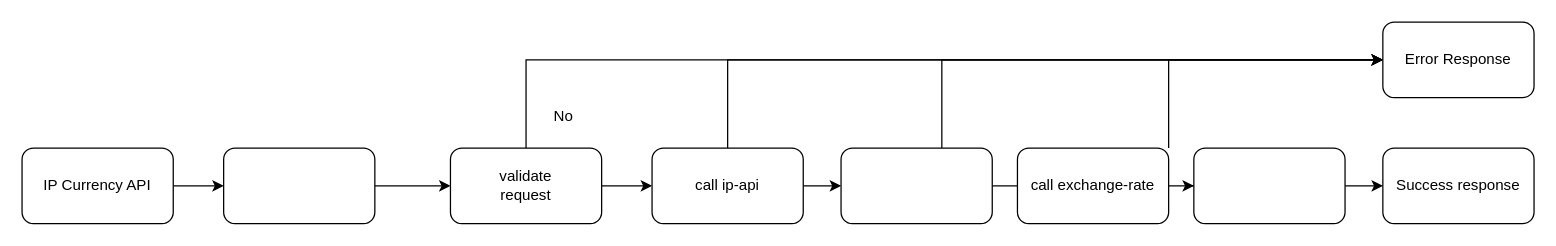
This 1556x246 diagram has some shape labels left out. Each missing label, with the box of its shape:
/ip-info: (222, 147, 375, 224)
Build response: (1193, 147, 1345, 224)
call restcountries: (840, 147, 992, 224)
